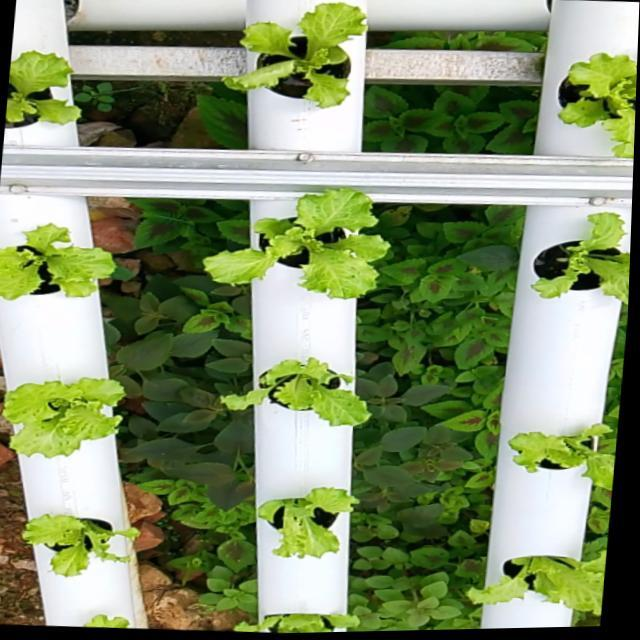Baby: (187, 186, 380, 298), (207, 0, 358, 102), (204, 359, 359, 430), (525, 210, 630, 305), (459, 557, 606, 624), (554, 46, 637, 154), (0, 379, 106, 462), (500, 427, 615, 498), (0, 520, 120, 584), (241, 492, 345, 565), (0, 220, 97, 297), (6, 41, 59, 118)
